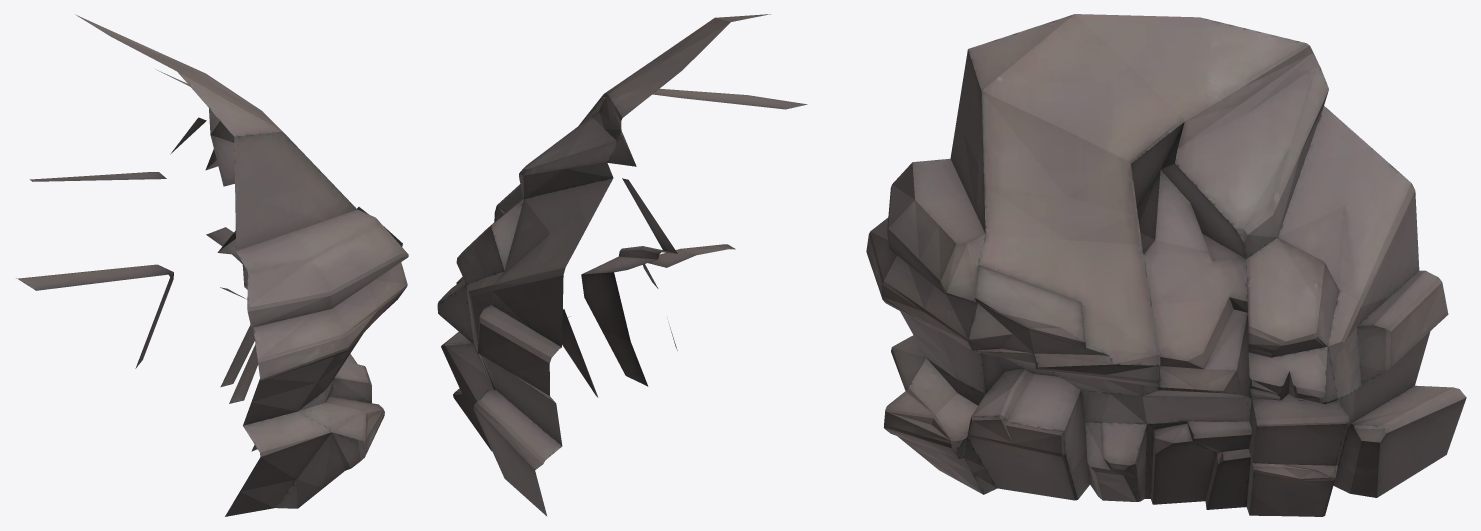
3 views of the same model, side by side, from view 1: azimuth 30°, elevation 25°; view 2: azimuth 150°, elevation 25°; view 3: azimuth 270°, elevation 25° (orthographic). The views are drawn at different scales.
Visible parts, largest first — view 1: body0_model0_lod0_mesh0; view 2: body0_model0_lod0_mesh0; view 3: body0_model0_lod0_mesh0.
Part boxes in pixels (bbox=[...]): body0_model0_lod0_mesh0: bbox=[16, 14, 408, 516]; body0_model0_lod0_mesh0: bbox=[437, 14, 807, 516]; body0_model0_lod0_mesh0: bbox=[866, 14, 1466, 516].
Size of the model in its own units: 551 by 933 by 1174.
1 material, 1 textured.
